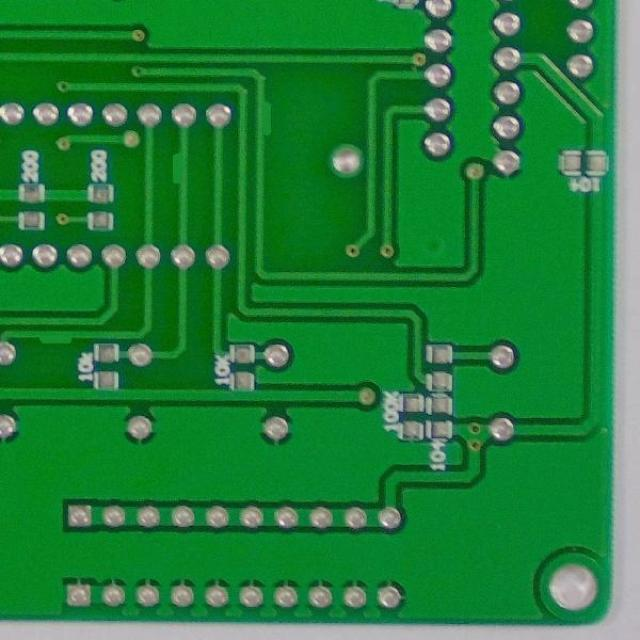Spur: (165, 146, 193, 192), (250, 95, 278, 141), (33, 326, 80, 348)
